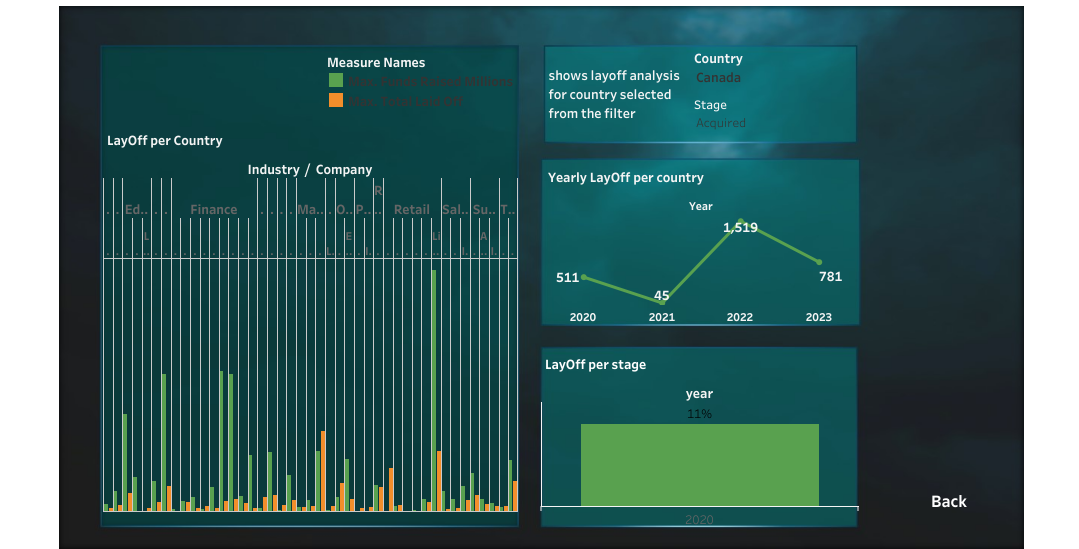

What the dashboard file says about the page in this screenshot:
{"tool":"tableau","page":{"name":"layoff country","canvas":[1080,550],"ordinal":1},"visuals":[{"type":"image","param":"Image/eda2.jpg","box":[2,6,1080,543]},{"type":"filter","title":"LayOff per Country","param":"[federated.0uxfwrl0vpotqv18yztx60hfk7j8].[none:country:nk]","box":[694,47,160,40]},{"type":"text","box":[546,48,141,91]},{"type":"legend","title":"LayOff per Country","param":"[federated.0uxfwrl0vpotqv18yztx60hfk7j8].[:Measure Names]","box":[326,50,192,59]},{"type":"filter","title":"LayOff per stage","param":"[federated.1ryh55y0i9xtkl17nzmnn0ai57m3].[none:stage:nk]","box":[694,94,160,44]},{"type":"worksheet","title":"LayOff per Country","mark":"Automatic","cols":["industry","company"],"box":[103,124,416,388]},{"type":"worksheet","title":"Yearly LayOff per country","mark":"Line","rows":["total_laid_off"],"cols":["date - Split 1"],"box":[544,161,314,164]},{"type":"worksheet","title":"LayOff per stage","mark":"Automatic","rows":["percentage_laid_off"],"cols":["date - Split 1"],"box":[541,348,317,180]},{"type":"dashboard-object","box":[909,485,80,30]}]}

Visuals, with their boxes in screenshot pixels (x1, y1, x2, y2), scaled from the page's 1080x550 canvas onto the 1079x549 screenshot:
image: (2,6,1078,548)
"LayOff per Country" filter: (693,47,853,87)
text: (545,48,686,139)
"LayOff per Country" legend: (326,50,518,109)
"LayOff per stage" filter: (693,94,853,138)
"LayOff per Country" worksheet: (103,124,519,511)
"Yearly LayOff per country" worksheet (Line marks): (543,161,857,324)
"LayOff per stage" worksheet: (540,347,857,527)
dashboard-object: (908,484,988,514)
